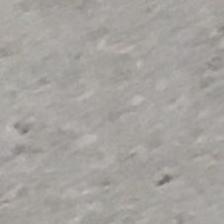Non_Crack: (26, 45, 224, 201)
